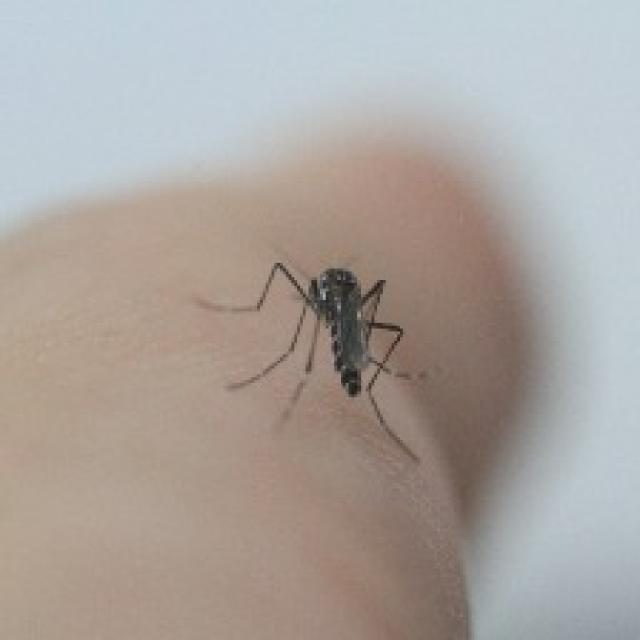aedes: (191, 257, 423, 463)
